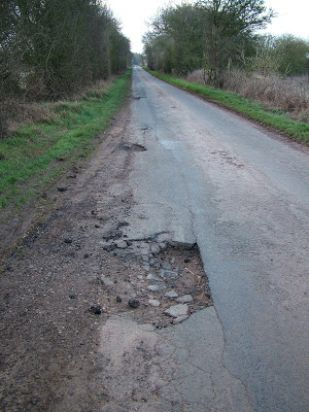pothole: (94, 232, 215, 331)
